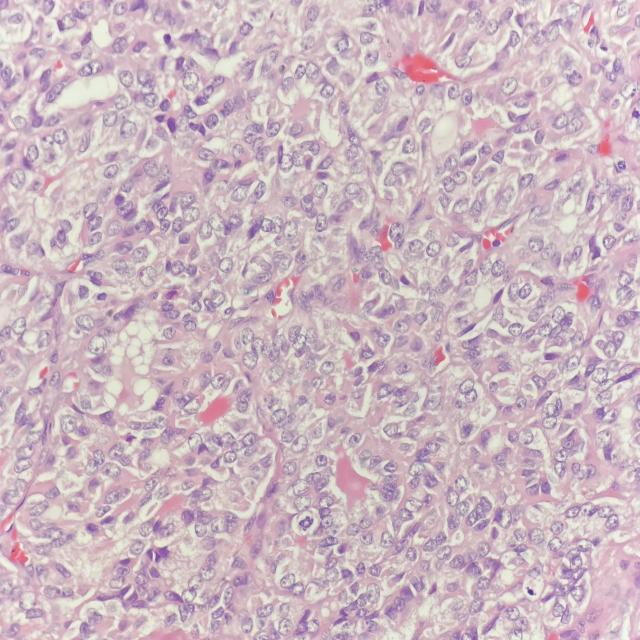TC: (307, 173, 337, 205), (522, 228, 548, 260), (375, 263, 400, 295), (277, 217, 304, 245), (580, 187, 603, 219), (215, 252, 241, 280), (382, 219, 406, 246), (450, 192, 474, 219), (206, 207, 230, 234), (388, 158, 412, 185), (263, 365, 293, 386), (510, 121, 535, 146), (488, 252, 509, 280), (318, 353, 339, 381), (224, 181, 252, 202), (421, 237, 445, 260), (442, 152, 464, 176), (454, 373, 478, 395), (309, 211, 332, 232), (512, 397, 535, 418), (395, 358, 415, 381), (387, 314, 411, 333), (520, 169, 538, 194), (383, 420, 401, 443), (203, 289, 225, 306), (231, 143, 249, 162), (507, 321, 525, 339)
